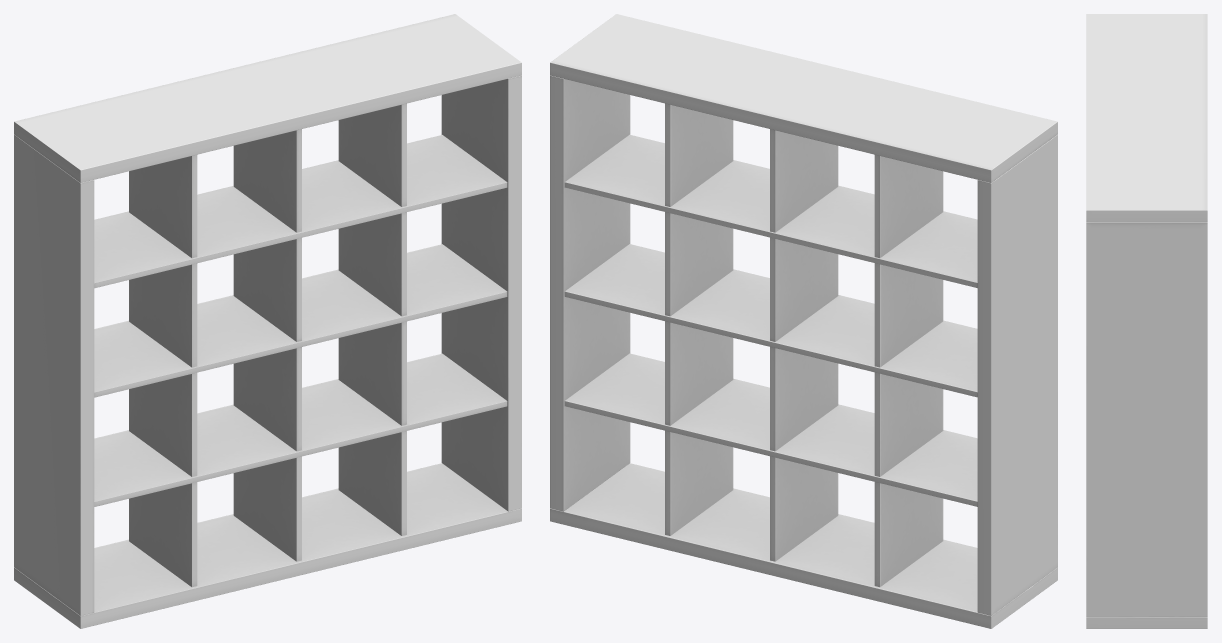
Rendered from Shelve_005_WhiteGlossy.gltf.
The picture shows the model from 3 angles, left to right: view 1: azimuth 30°, elevation 25°; view 2: azimuth 150°, elevation 25°; view 3: azimuth 270°, elevation 25°; orthographic projection. The views are drawn at different scales.
Visible parts, largest first — view 1: Shelve_005; view 2: Shelve_005; view 3: Shelve_005.
Boxes of the visible parts, <box> form: Shelve_005: <box>14,14,521,628</box>; Shelve_005: <box>550,14,1057,628</box>; Shelve_005: <box>1086,14,1207,628</box>.
Size of the model in its own units: 1.47 by 1.46 by 0.3843.
Materials: 1 (1 with a texture image).
